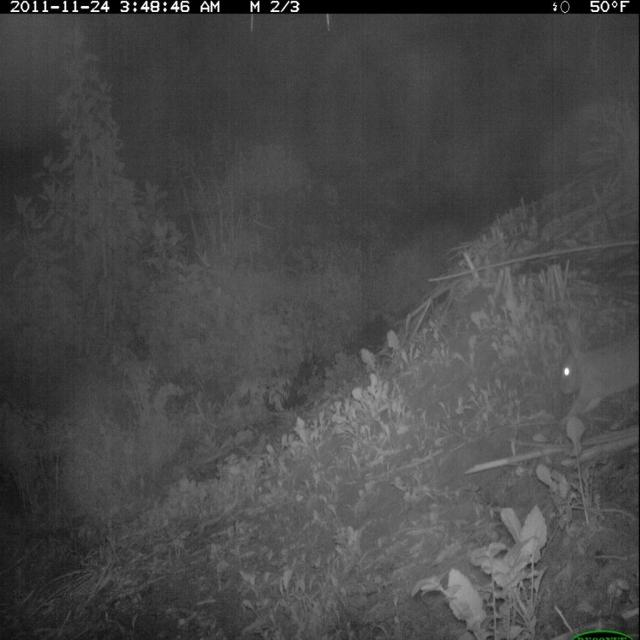rabbit: (550, 309, 640, 439)
